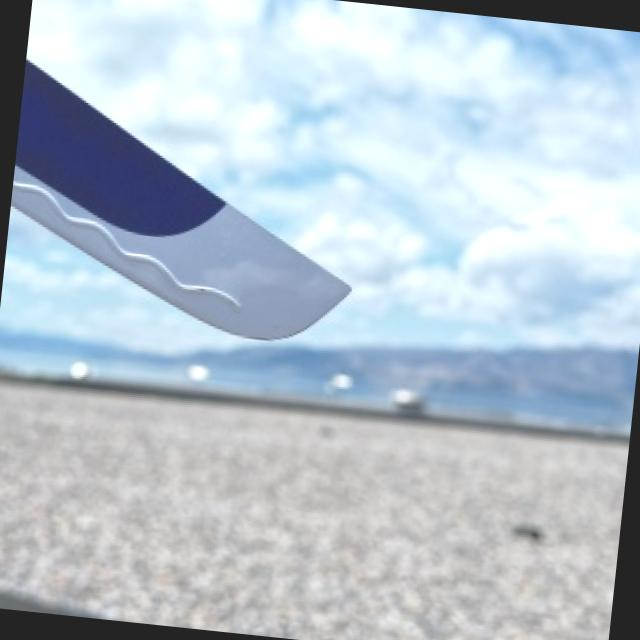healthy: (10, 57, 347, 336)
